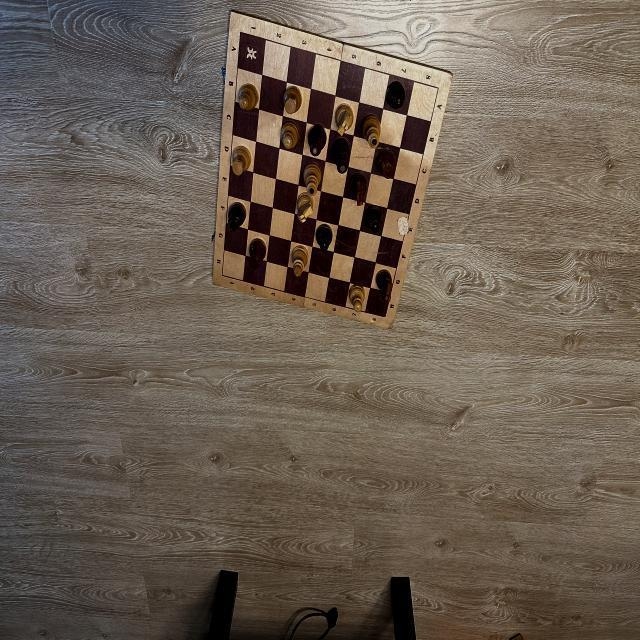chess-table-corners: (238, 28, 244, 36), (436, 84, 440, 92), (220, 272, 224, 279), (383, 314, 387, 320)
